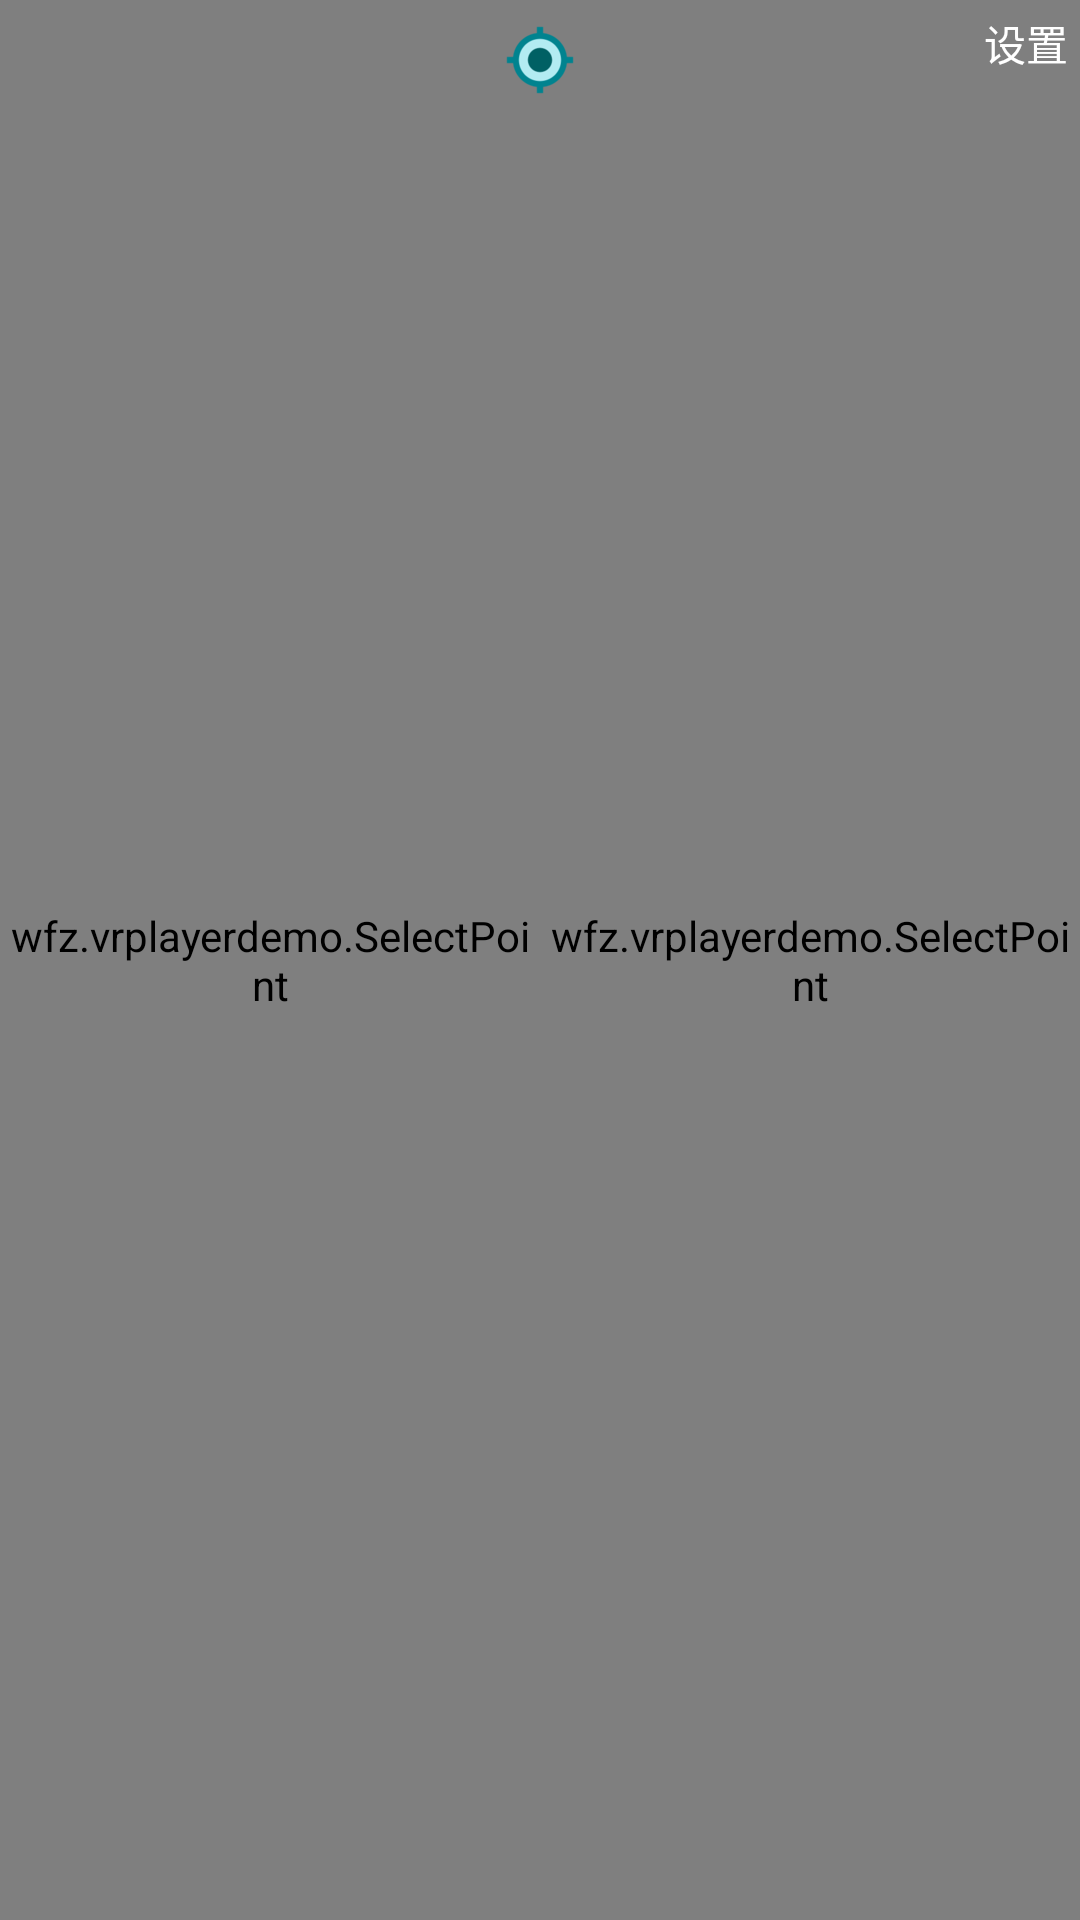

Screen size 1080px x 1920px. Icon name, then its box in pixels as (x1=x1, y1=y1, x2=x2, y2=y2):
location: (x1=507, y1=27, x2=573, y2=93)
